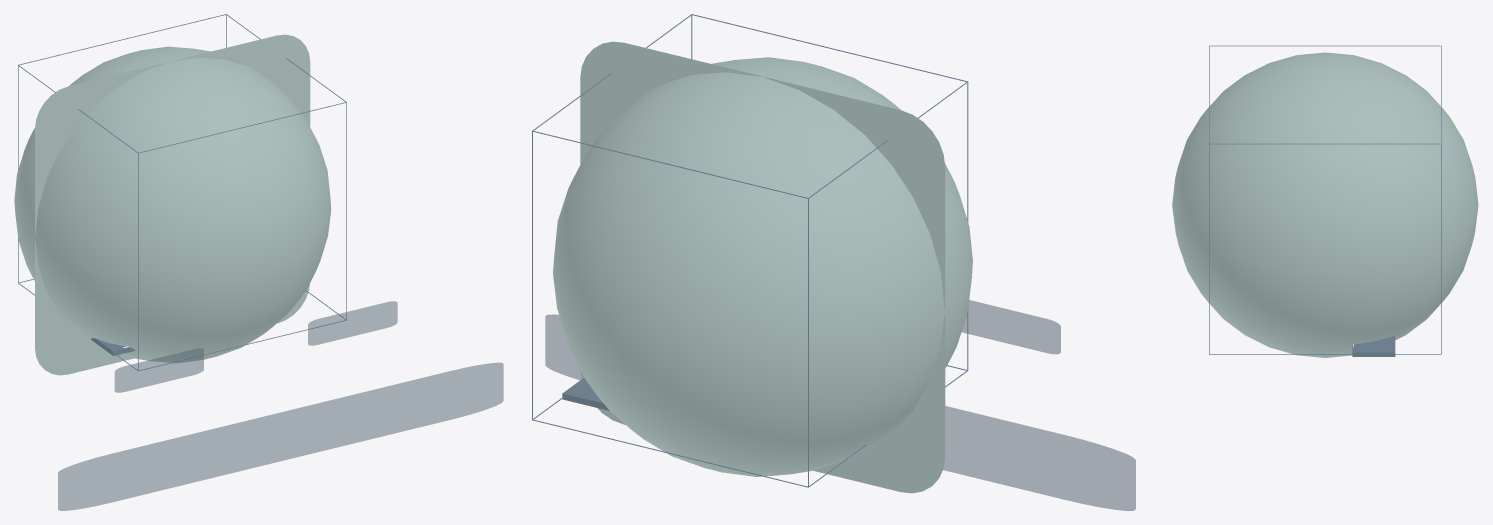
File: OrbitalLoom.unity.glb
3 views of the same model, side by side, from view 1: azimuth 30°, elevation 25°; view 2: azimuth 150°, elevation 25°; view 3: azimuth 270°, elevation 25° (orthographic). The views are drawn at different scales.
Visible parts, largest first — view 1: Toggle thumb, Unified tool dock, Toggle rail, Ring control grouping 1, Ring control grouping 0; view 2: Toggle thumb, Crystal edge, Unified tool dock, Ring control grouping 0, Toggle rail, Floating foot 1; view 3: Toggle thumb, Floating foot 1, Depth edge 2 -1 1, Depth edge 2 1 1.
Boxes of the visible parts, x1,y1,x2,y2 form: Toggle thumb: [14, 46, 331, 363]; Unified tool dock: [58, 362, 503, 510]; Toggle rail: [35, 35, 310, 375]; Ring control grouping 1: [308, 301, 397, 345]; Ring control grouping 0: [114, 348, 203, 392]; Toggle thumb: [553, 57, 972, 476]; Crystal edge: [580, 42, 944, 493]; Unified tool dock: [545, 314, 1135, 510]; Ring control grouping 0: [962, 300, 1060, 354]; Toggle rail: [603, 41, 945, 485]; Floating foot 1: [562, 377, 609, 410]; Toggle thumb: [1172, 52, 1478, 357]; Floating foot 1: [1352, 335, 1395, 356]; Depth edge 2 -1 1: [1210, 45, 1440, 46]; Depth edge 2 1 1: [1210, 143, 1440, 144].
Size of the model in its own units: 1.62 by 1.2 by 1.02.
